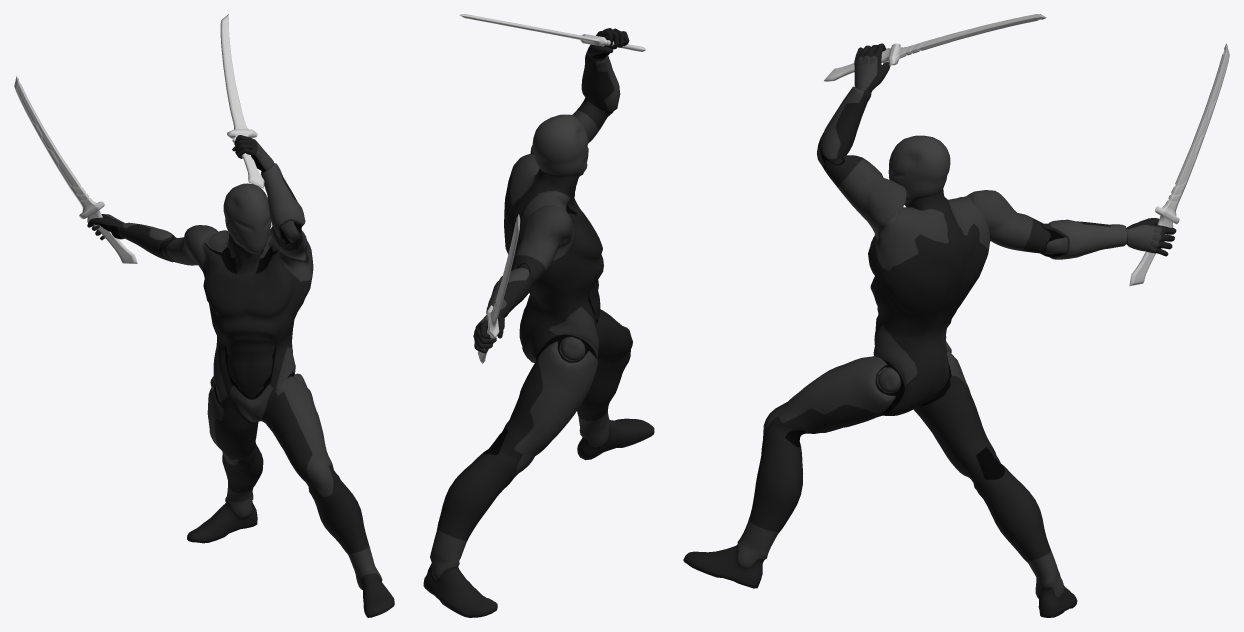
3 renders of one model, left to right at view 1: azimuth 30°, elevation 25°; view 2: azimuth 150°, elevation 25°; view 3: azimuth 270°, elevation 25°, orthographic. The views are drawn at different scales.
Parts seen in each view (by area): view 1: Cyborg_Ninja_Killer, Sword_l001, Sword_l; view 2: Cyborg_Ninja_Killer, Sword_l001, Sword_l; view 3: Cyborg_Ninja_Killer, Sword_l001, Sword_l.
Boxes of the visible parts, x1=… form: Cyborg_Ninja_Killer: x1=87, y1=135, x2=394, y2=617; Sword_l001: x1=14, y1=76, x2=137, y2=263; Sword_l: x1=220, y1=14, x2=264, y2=188; Cyborg_Ninja_Killer: x1=423, y1=28, x2=654, y2=617; Sword_l001: x1=477, y1=214, x2=520, y2=363; Sword_l: x1=459, y1=14, x2=645, y2=51; Cyborg_Ninja_Killer: x1=683, y1=43, x2=1176, y2=617; Sword_l001: x1=1129, y1=43, x2=1229, y2=285; Sword_l: x1=824, y1=14, x2=1046, y2=81.
Bounding box in the file's own units: 72.76 × 224 × 186.
